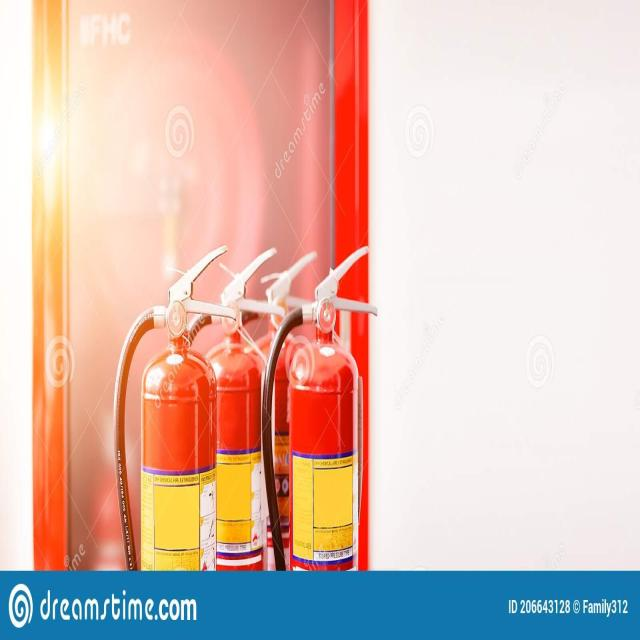fire_extinguisher: (112, 241, 240, 571), (262, 241, 381, 574), (168, 244, 286, 571)
